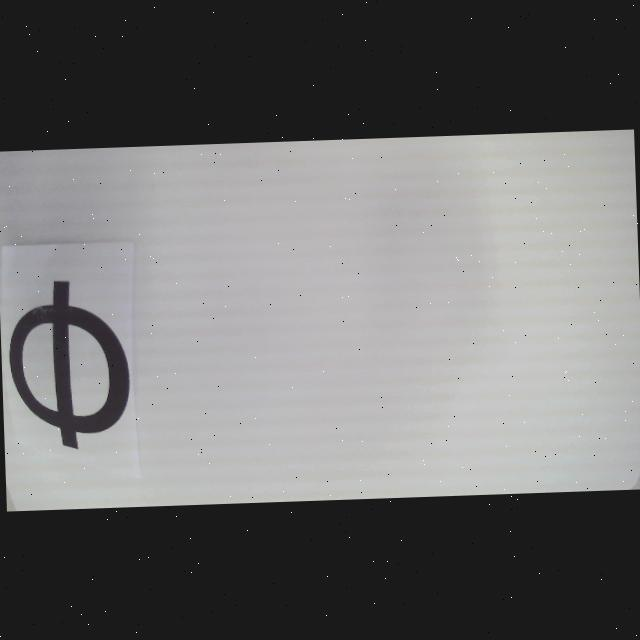PHI: (7, 276, 132, 452)
